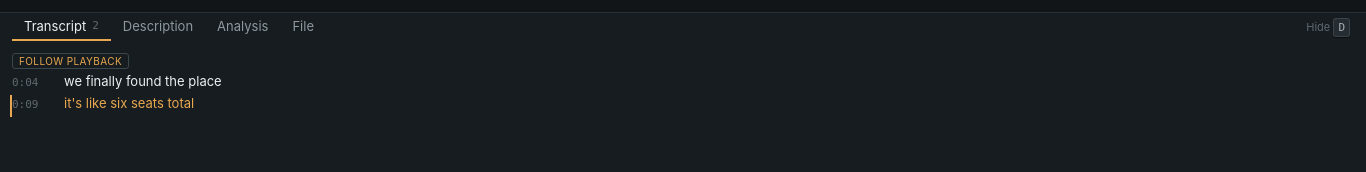
following playback through the transcript › resumes immediately when the reader asks it to
This screenshot has width=1366, height=172.
Click the button "Follow playback": (70, 61) [12,53,129,69]
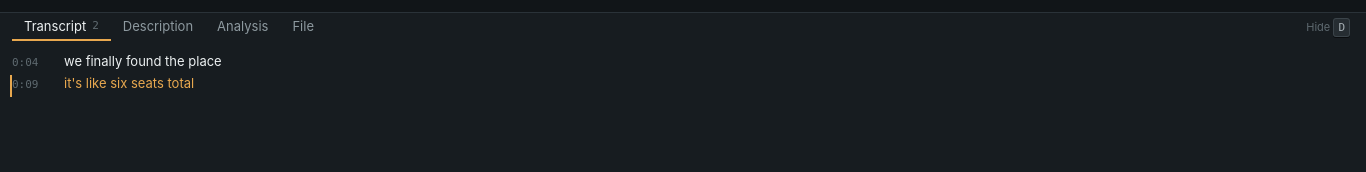
Now the button "Follow playback" is gone
